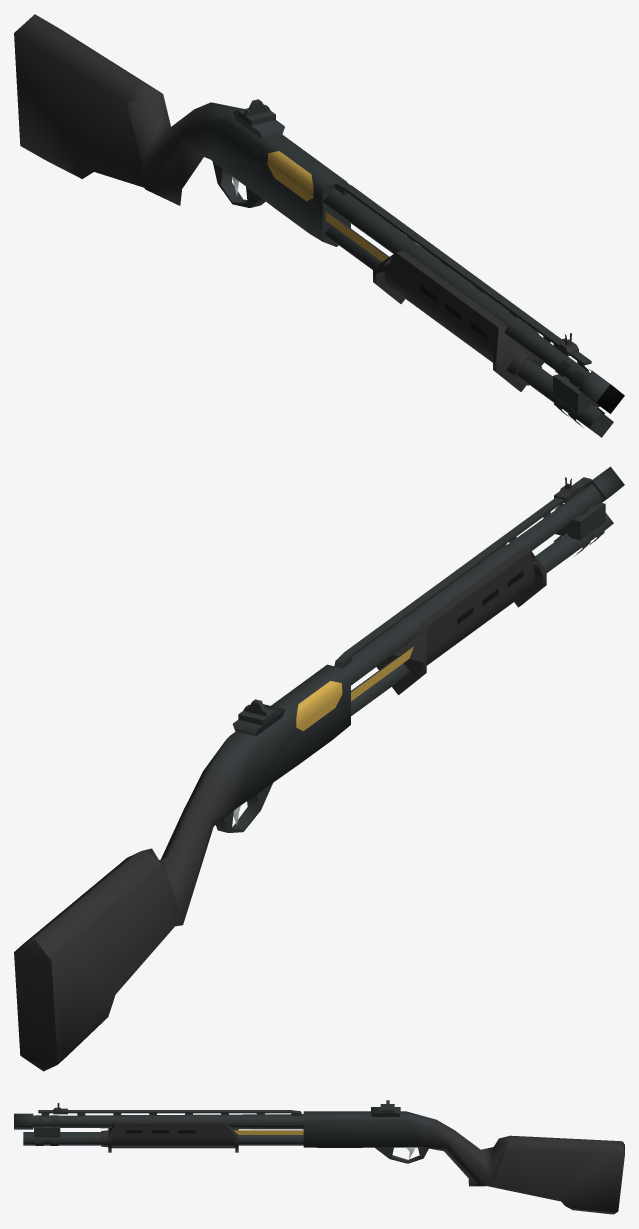
File: Weapon_Low_Shotgun.FBX
3 views of the same model, one above another, from view 1: azimuth 30°, elevation 25°; view 2: azimuth 150°, elevation 25°; view 3: azimuth 270°, elevation 25° (orthographic). The views are drawn at different scales.
Visible parts, largest first — view 1: WeaponShotgun_Low; view 2: WeaponShotgun_Low; view 3: WeaponShotgun_Low.
Part boxes in pixels (x1,y1,x2,y2): WeaponShotgun_Low: (14,14,624,437); WeaponShotgun_Low: (14,466,624,1071); WeaponShotgun_Low: (14,1100,624,1214).
Bounding box in the file's own units: 5.62 × 112 × 22.98.
